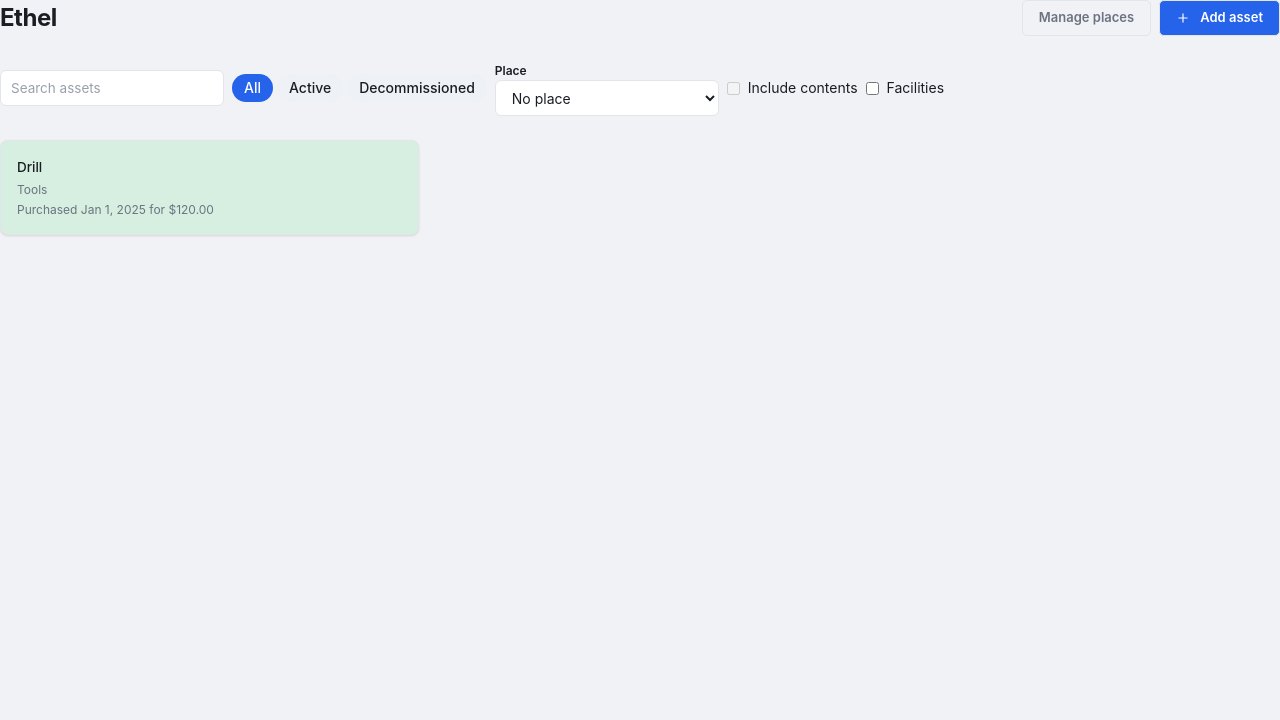
Test case: AssetDetail detail-row mutual exclusion › shows the vehicle panel and hides the facility action when a vehicle detail exists
The width and height of the screenshot is (1280, 720).
Click the text "Drill": (30, 167) [17, 159, 42, 175]
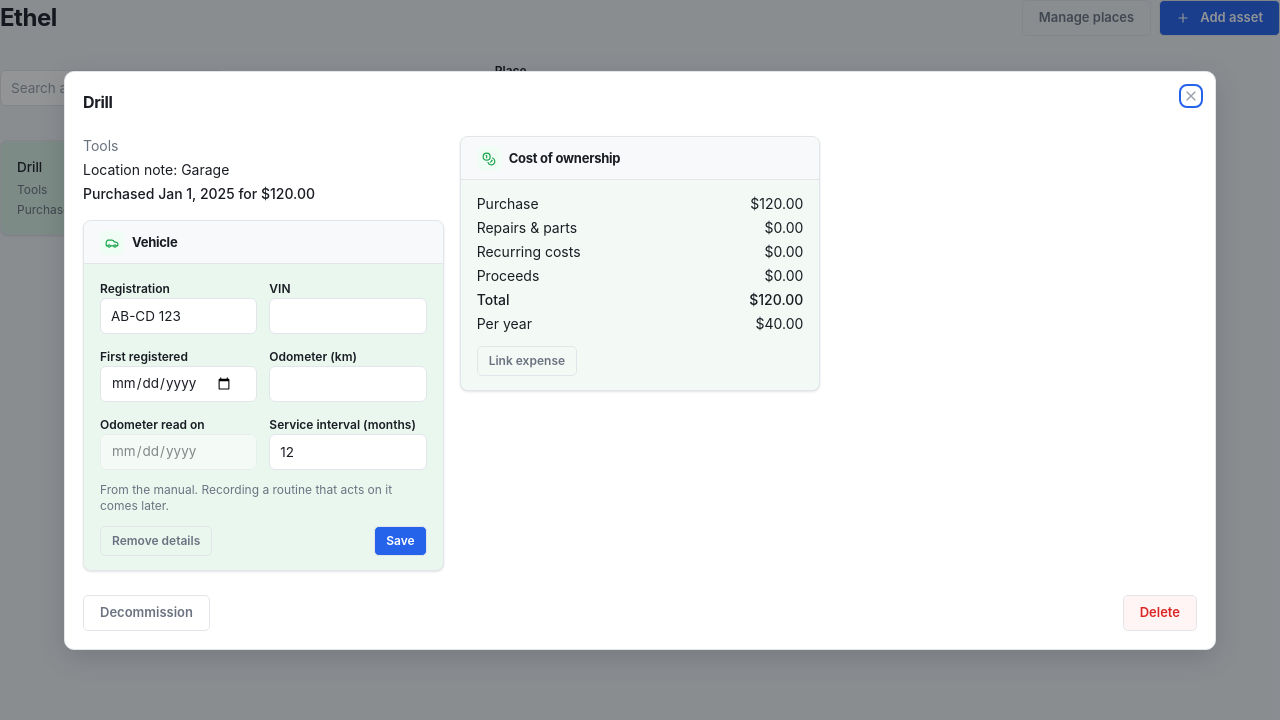
Expected: the field labelled "Registration" holds "AB-CD 123", [100, 298, 257, 334]
